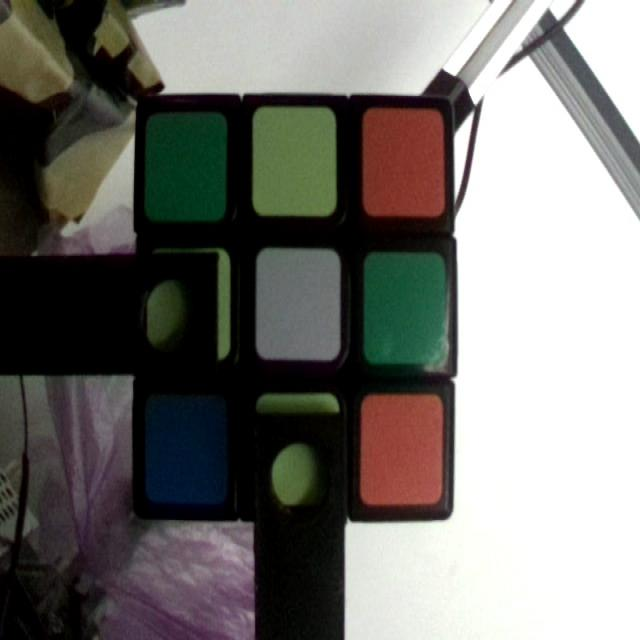b: (145, 396, 225, 500)
g: (364, 258, 445, 360), (148, 119, 225, 218)
o: (362, 394, 437, 504), (365, 113, 441, 214)
w: (260, 250, 340, 354)
y: (147, 246, 230, 358), (255, 394, 336, 508), (254, 106, 336, 210)
